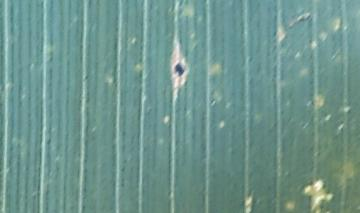tarspot: (174, 63, 184, 77)
